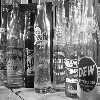beer: (33, 1, 52, 97)
